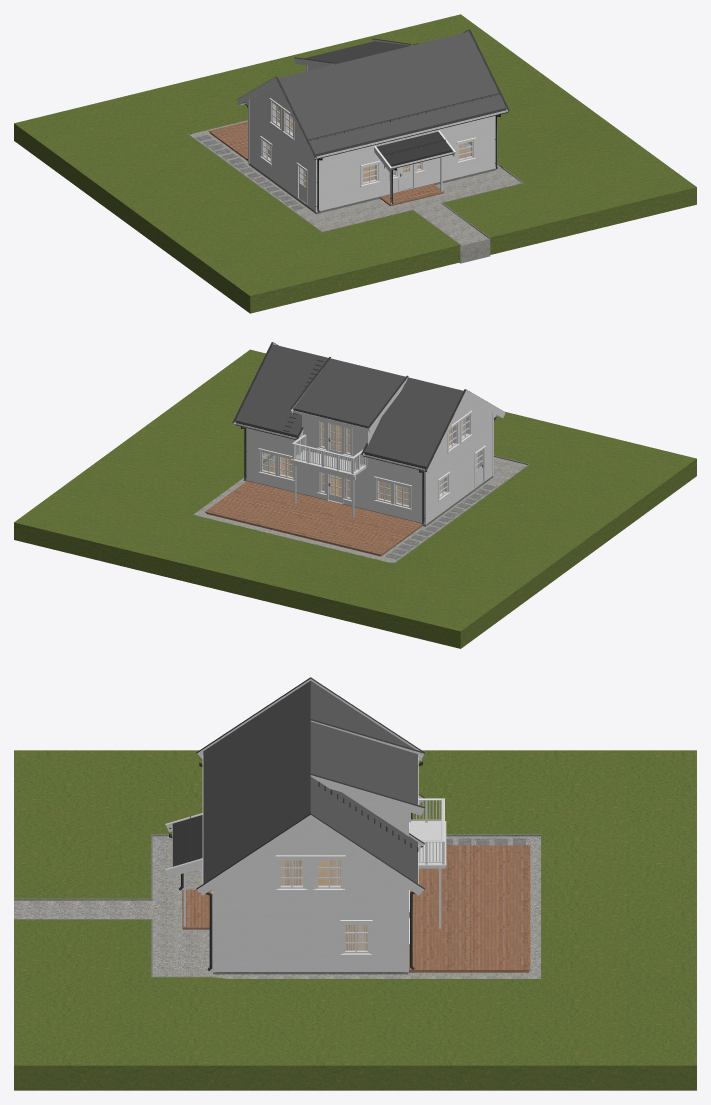
The model's file is Zara_house_FBX.gltf.
3 views of the same model, one above another, from view 1: azimuth 30°, elevation 25°; view 2: azimuth 150°, elevation 25°; view 3: azimuth 270°, elevation 25° (orthographic). The views are drawn at different scales.
Parts seen in each view (by area): view 1: GRASS, ROOF_METAL_ROUGH, WALLS, GRAVEL, WOOD_GENERAL, CONCRETE, METAL_ROUGH, TERRACE, METAL; view 2: GRASS, ROOF_METAL_ROUGH, WALLS, WOOD_GENERAL, TERRACE, GRAVEL, CONCRETE, METAL_ROUGH, PARQUET_1, PARQUET_2, METAL; view 3: GRASS, ROOF_METAL_ROUGH, WALLS, TERRACE, GRAVEL, WOOD_GENERAL, METAL_ROUGH, CONCRETE, PARQUET_2, METAL.
Boxes of the visible parts, left/top/right/bottom form: GRASS: left=14, top=14, right=696, bottom=313; ROOF_METAL_ROUGH: left=278, top=32, right=506, bottom=156; WALLS: left=249, top=65, right=495, bottom=211; GRAVEL: left=190, top=120, right=521, bottom=263; WOOD_GENERAL: left=236, top=30, right=508, bottom=212; CONCRETE: left=188, top=133, right=523, bottom=245; METAL_ROUGH: left=237, top=29, right=509, bottom=166; TERRACE: left=208, top=121, right=443, bottom=206; METAL: left=245, top=93, right=507, bottom=212; GRASS: left=14, top=349, right=696, bottom=648; ROOF_METAL_ROUGH: left=235, top=344, right=463, bottom=469; WALLS: left=246, top=397, right=492, bottom=523; WOOD_GENERAL: left=233, top=343, right=505, bottom=524; TERRACE: left=205, top=481, right=423, bottom=556; GRAVEL: left=193, top=419, right=527, bottom=562; CONCRETE: left=245, top=455, right=529, bottom=562; METAL_ROUGH: left=232, top=342, right=505, bottom=470; PARQUET_1: left=264, top=457, right=442, bottom=505; PARQUET_2: left=321, top=422, right=464, bottom=458; METAL: left=234, top=416, right=496, bottom=524; GRASS: left=14, top=750, right=696, bottom=1090; ROOF_METAL_ROUGH: left=203, top=680, right=417, bottom=883; WALLS: left=216, top=792, right=405, bottom=971; TERRACE: left=182, top=845, right=530, bottom=972; GRAVEL: left=14, top=836, right=540, bottom=978; WOOD_GENERAL: left=165, top=678, right=446, bottom=972; METAL_ROUGH: left=172, top=677, right=425, bottom=889; CONCRETE: left=14, top=834, right=540, bottom=977; PARQUET_2: left=280, top=860, right=340, bottom=885; METAL: left=169, top=737, right=423, bottom=970.
Size of the model in its own units: 29.38 by 8.28 by 26.9.
Materials: 11 (10 with a texture image).
